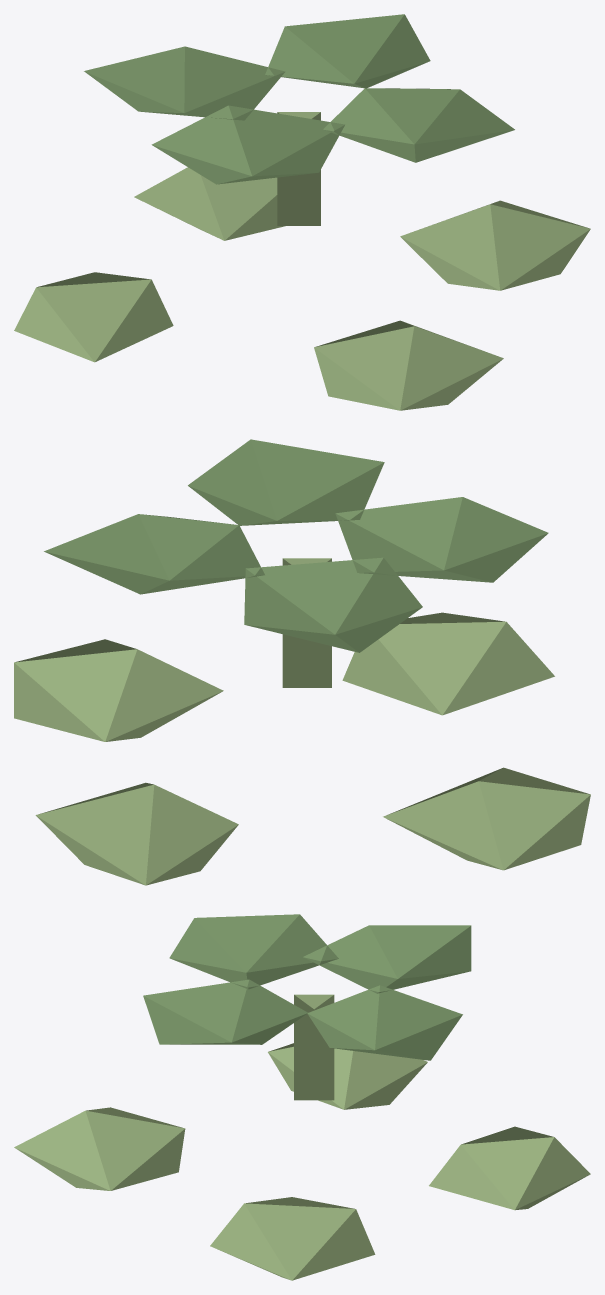
The model's file is cao.dixue@subadult__summer.glb.
3 views of the same model, one above another, from view 1: azimuth 30°, elevation 25°; view 2: azimuth 150°, elevation 25°; view 3: azimuth 270°, elevation 25° (orthographic). The views are drawn at different scales.
Visible parts, largest first — view 1: cao.dixue@subadult__summer; view 2: cao.dixue@subadult__summer; view 3: cao.dixue@subadult__summer.
Boxes of the visible parts, x1=… form: cao.dixue@subadult__summer: x1=14, y1=14, x2=590, y2=410; cao.dixue@subadult__summer: x1=14, y1=439, x2=590, y2=885; cao.dixue@subadult__summer: x1=14, y1=914, x2=590, y2=1280.
Bounding box in the file's own units: 0.489 × 0.2218 × 0.4906.
